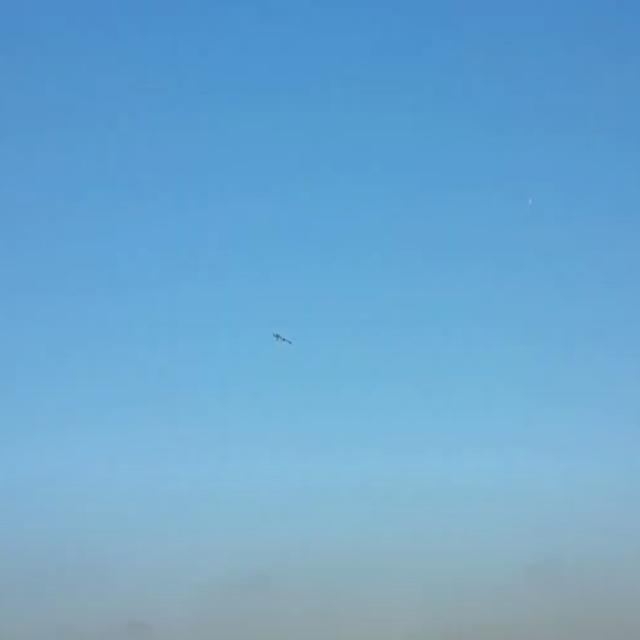iha: (271, 330, 293, 347)
